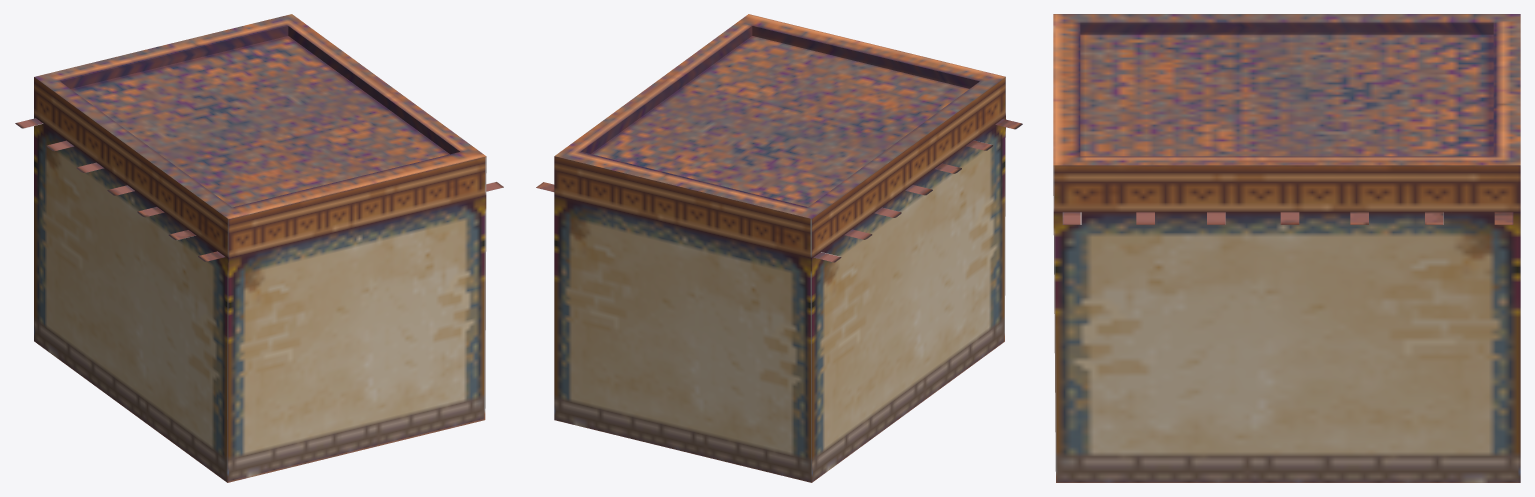
The model's file is house_02.dae.
3 renders of one model, left to right at view 1: azimuth 30°, elevation 25°; view 2: azimuth 150°, elevation 25°; view 3: azimuth 270°, elevation 25°, orthographic. The views are drawn at different scales.
Visible parts, largest first — view 1: house_02; view 2: house_02; view 3: house_02.
Part boxes in pixels (bbox=[...]): house_02: bbox=[15, 14, 503, 482]; house_02: bbox=[536, 14, 1022, 482]; house_02: bbox=[1053, 14, 1520, 482].
Size of the model in its own units: 3.57 by 4 by 3.
Materials: 1 (1 with a texture image).
